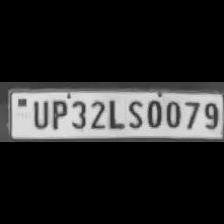0: (162, 98, 182, 128), (145, 97, 163, 128)
2: (87, 97, 105, 130)
3: (68, 97, 88, 129)
7: (180, 98, 200, 130)
9: (200, 99, 220, 129)
L: (105, 96, 123, 130)
P: (48, 97, 68, 130)
S: (124, 97, 144, 129)
U: (29, 98, 49, 130)
